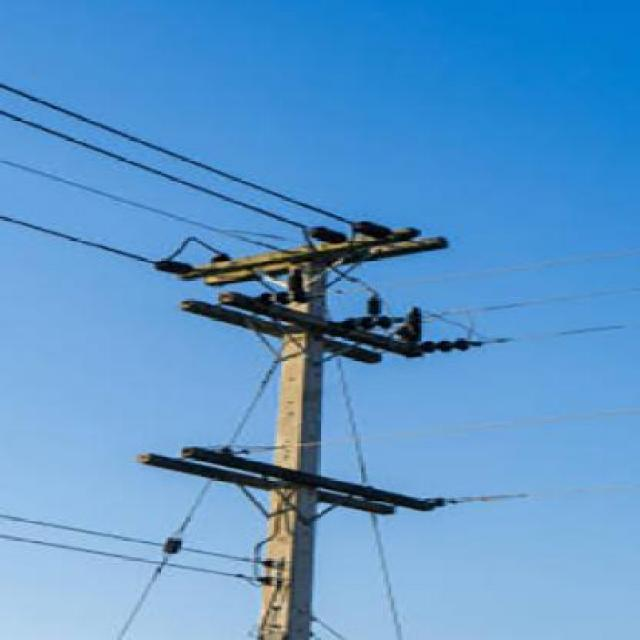pole: (127, 181, 474, 640)
